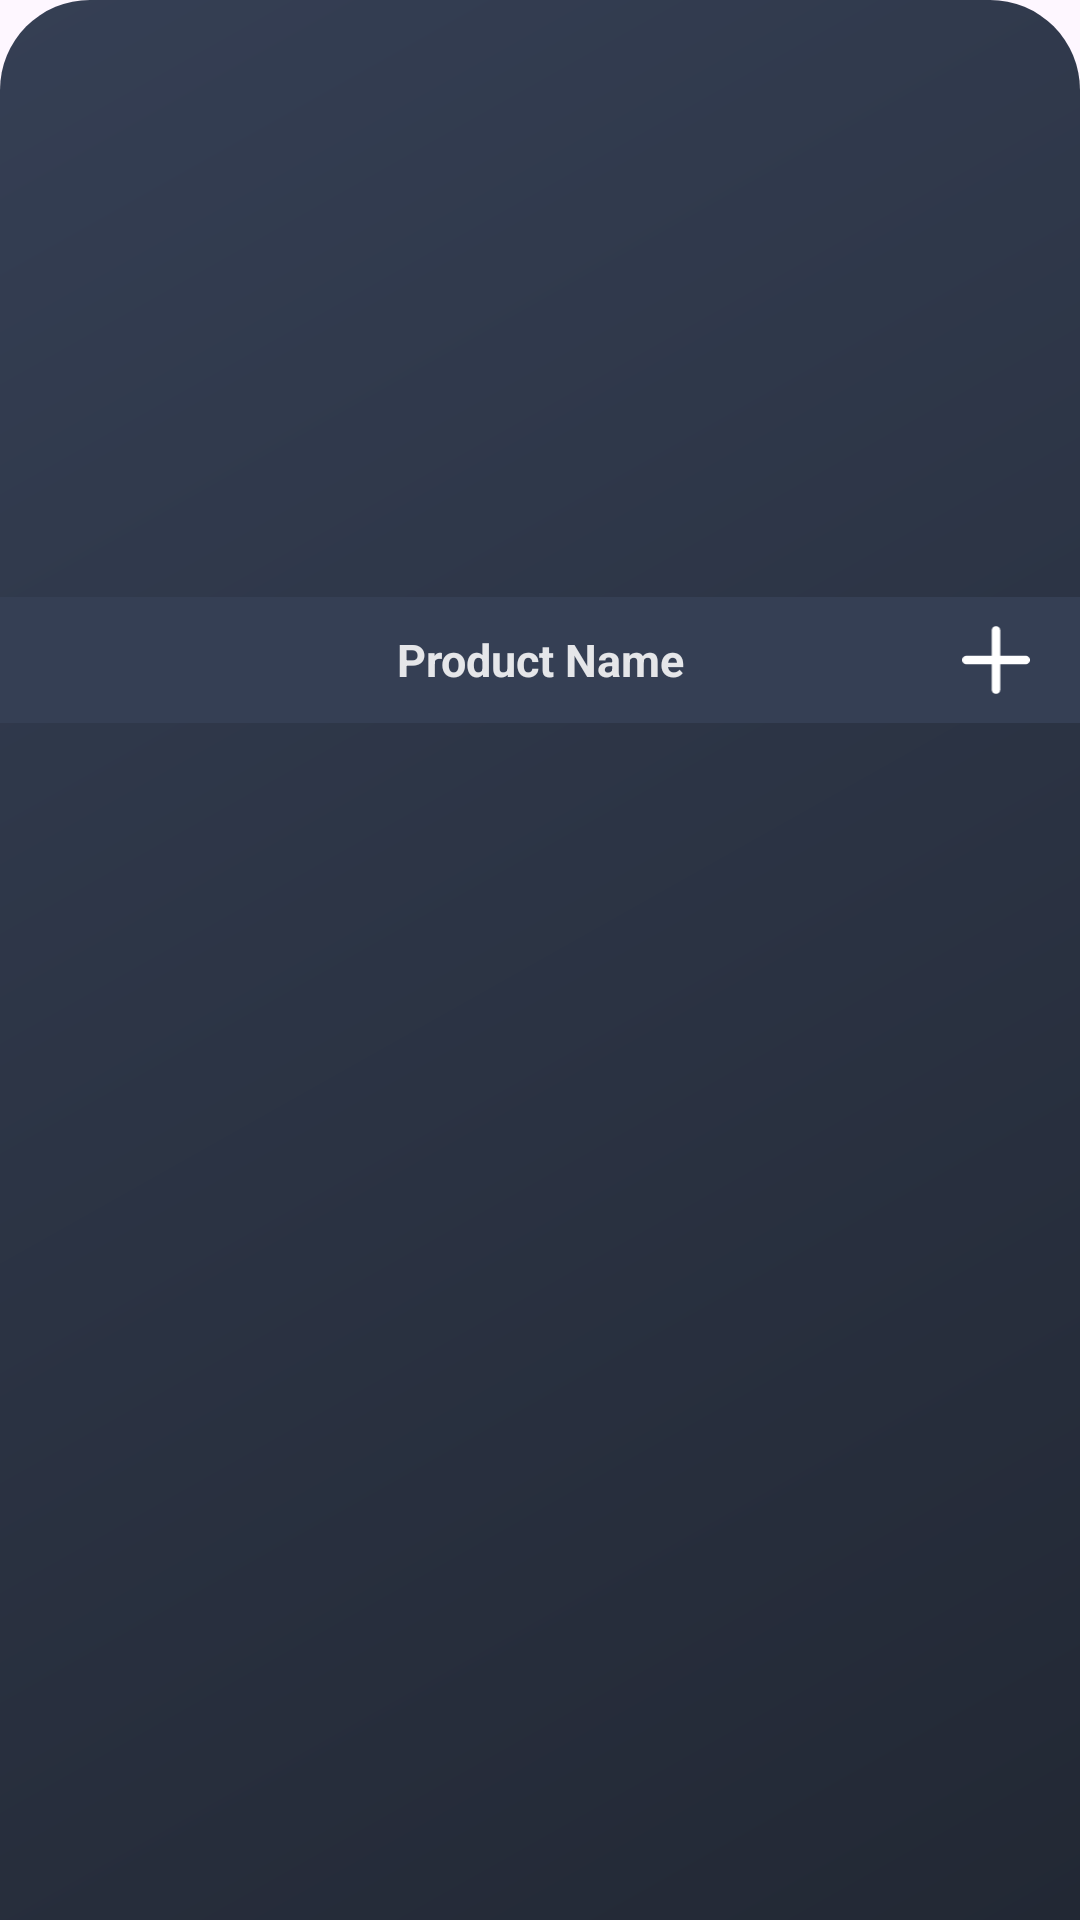

Icons on this 1080 × 1920 Android screen, each with its box as Rect(x1, y1, x2, y2):
add: Rect(962, 626, 1030, 694)
